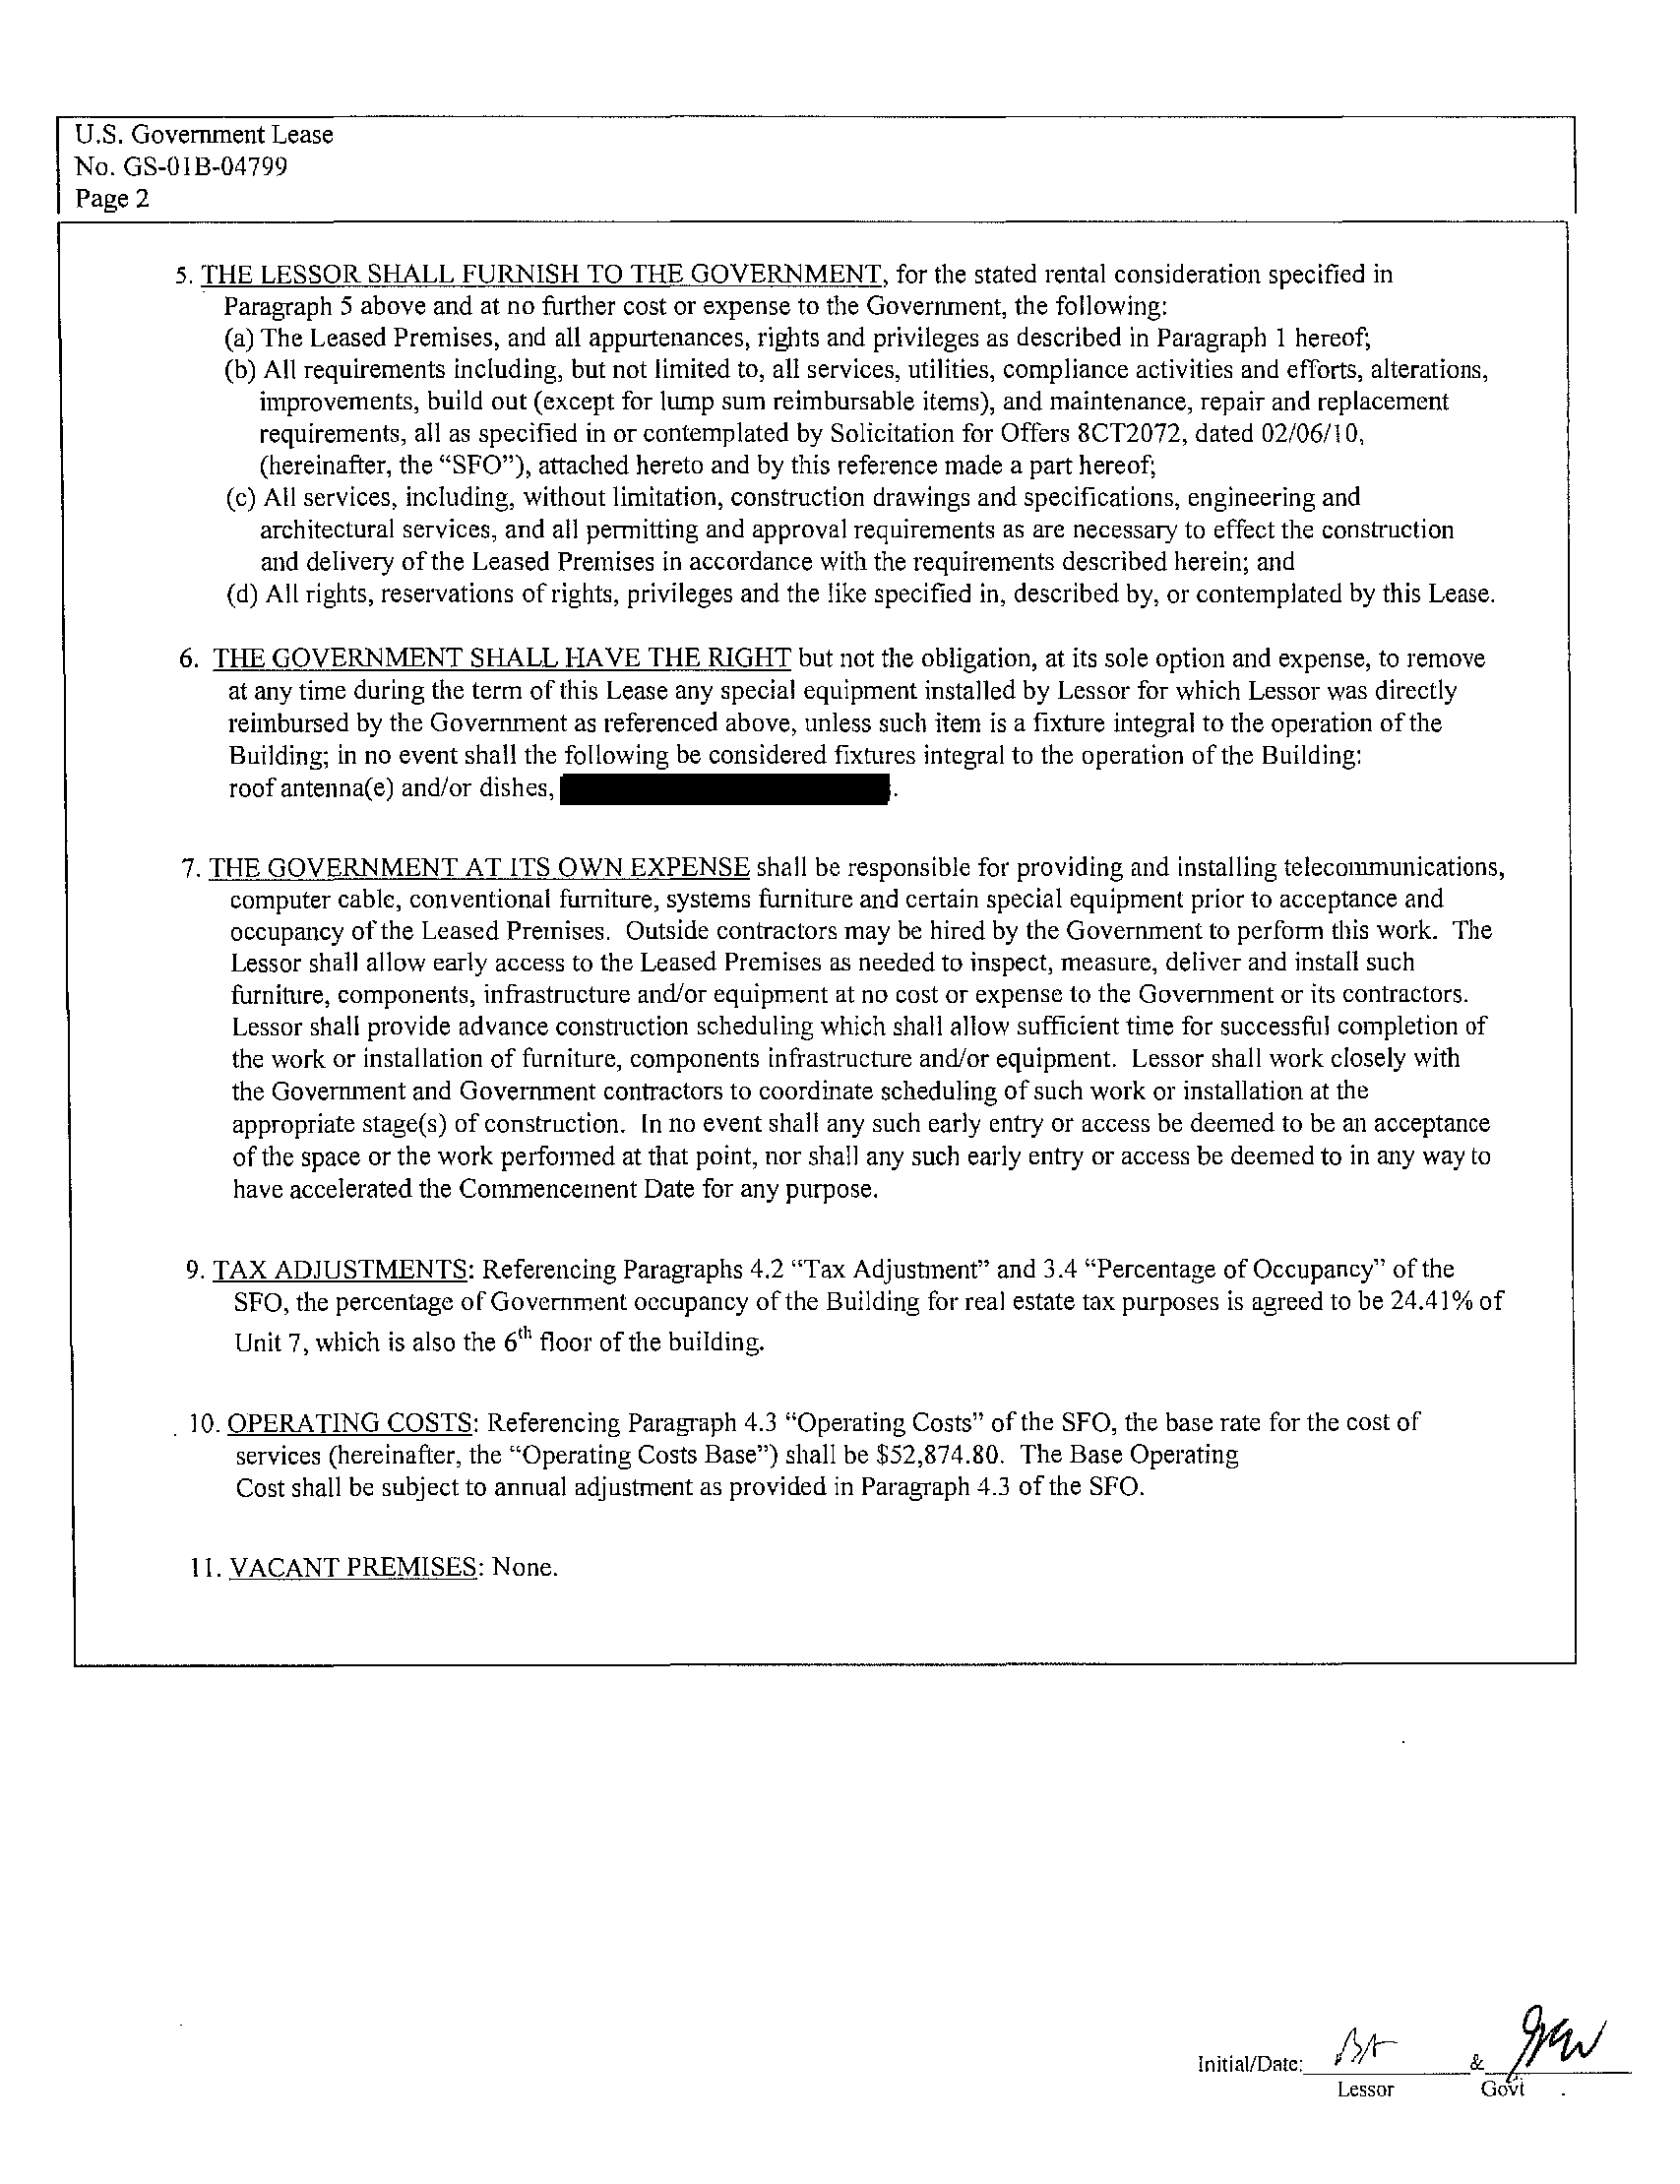handwritten: (1489, 1976, 1624, 2080), (1316, 2004, 1412, 2073)
